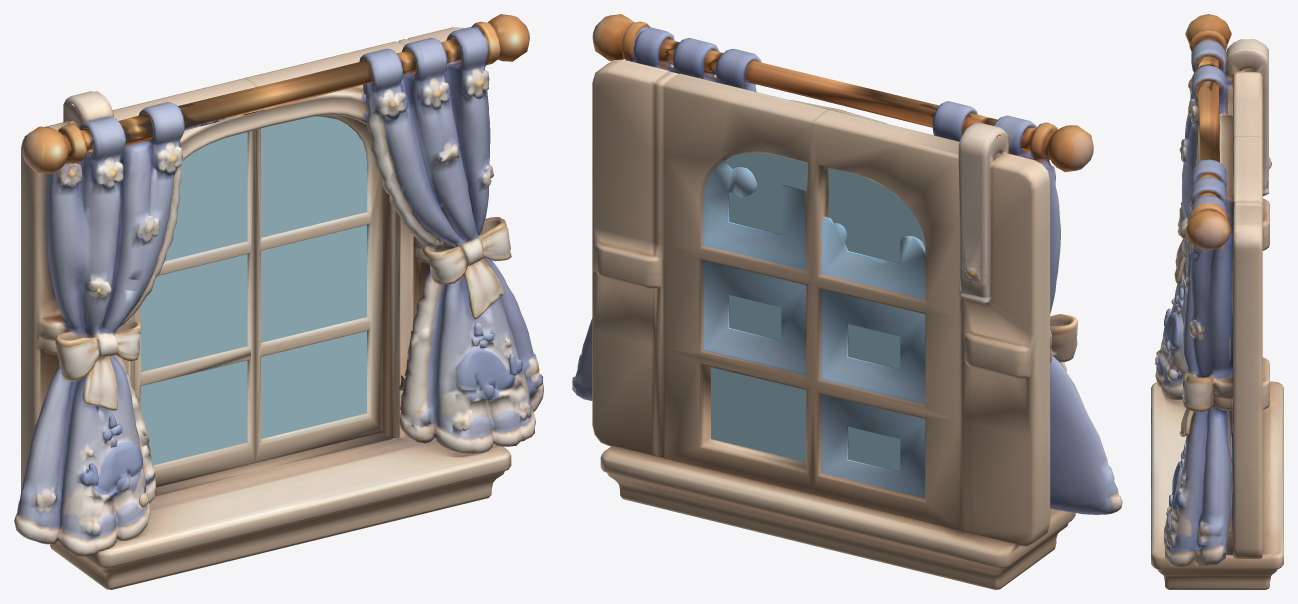
File: whale-window-v1.glb
3 views of the same model, side by side, from view 1: azimuth 30°, elevation 25°; view 2: azimuth 150°, elevation 25°; view 3: azimuth 270°, elevation 25° (orthographic). The views are drawn at different scales.
Visible parts, largest first — view 1: whale-window-v1; view 2: whale-window-v1; view 3: whale-window-v1.
Part boxes in pixels (<box>): whale-window-v1: <box>14,14,543,589</box>; whale-window-v1: <box>572,14,1122,589</box>; whale-window-v1: <box>1151,14,1283,589</box>.
Size of the model in its own units: 1.62 by 1.3 by 0.3954.
Materials: 2 (1 with a texture image).
